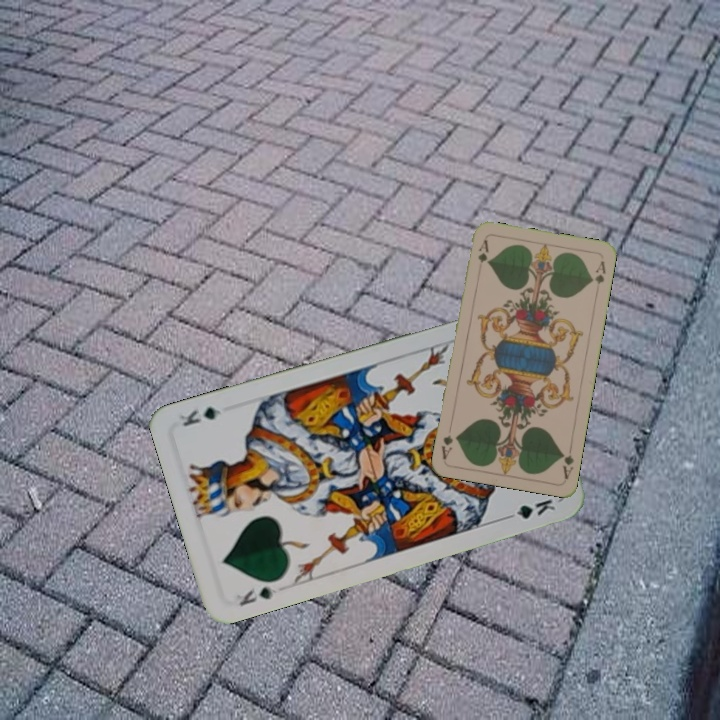GA: (474, 235, 491, 275), (557, 448, 576, 482)
GK: (231, 582, 279, 609)
